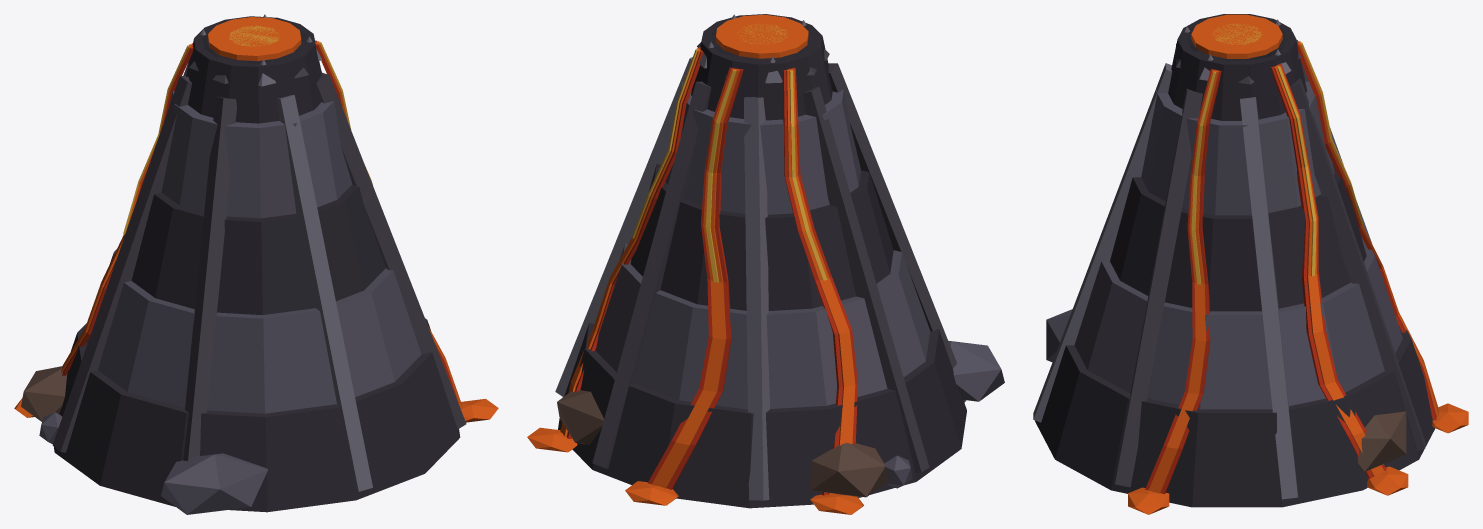
The model's file is Decor_Volcano_Volcano.fbx.
The picture shows the model from 3 angles, left to right: view 1: azimuth 30°, elevation 25°; view 2: azimuth 150°, elevation 25°; view 3: azimuth 270°, elevation 25°; orthographic projection.
Visible parts, largest first — view 1: Volcano_Body; view 2: Volcano_Body; view 3: Volcano_Body.
Boxes of the visible parts, x1=… form: Volcano_Body: x1=14, y1=14, x2=498, y2=514; Volcano_Body: x1=527, y1=14, x2=1004, y2=514; Volcano_Body: x1=1033, y1=14, x2=1468, y2=514.
Bounding box in the file's own units: 38 × 37.5 × 38.
